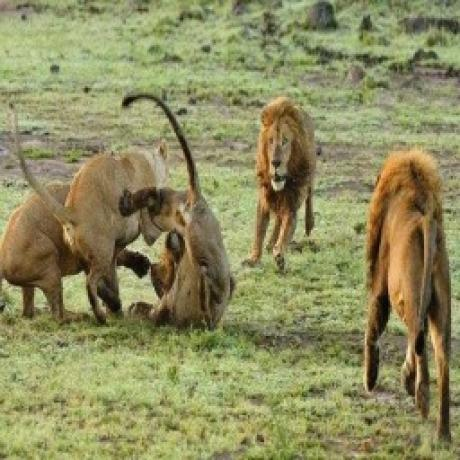Lion: (362, 150, 455, 449), (238, 101, 320, 267)
